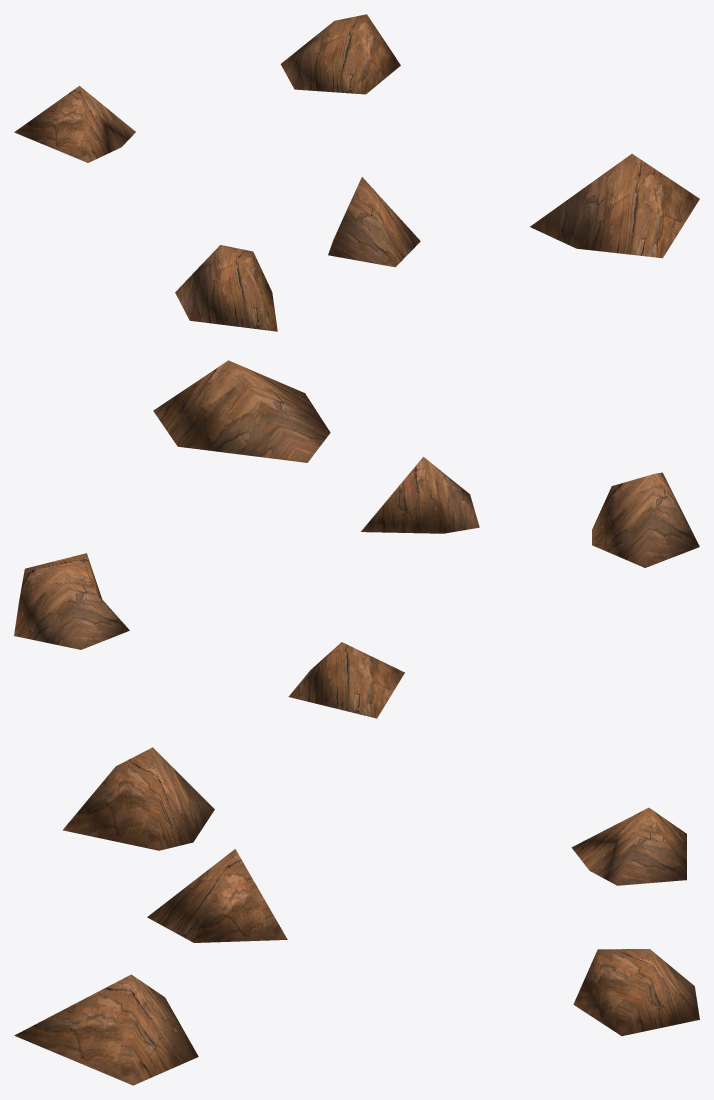
File: rock_tatt_jundland_pebble_a1_l3.fbx
3 renders of one model, top to bottom at view 1: azimuth 30°, elevation 25°; view 2: azimuth 150°, elevation 25°; view 3: azimuth 270°, elevation 25°, orthographic. The views are drawn at different scales.
Visible parts, largest first — view 1: mesh_node; view 2: mesh_node; view 3: mesh_node.
Part boxes in pixels (<box>): mesh_node: <box>14,14,699,331</box>; mesh_node: <box>14,360,699,718</box>; mesh_node: <box>14,747,699,1085</box>.
Bounding box in the file's own units: 1.21 × 0.143 × 1.22.
